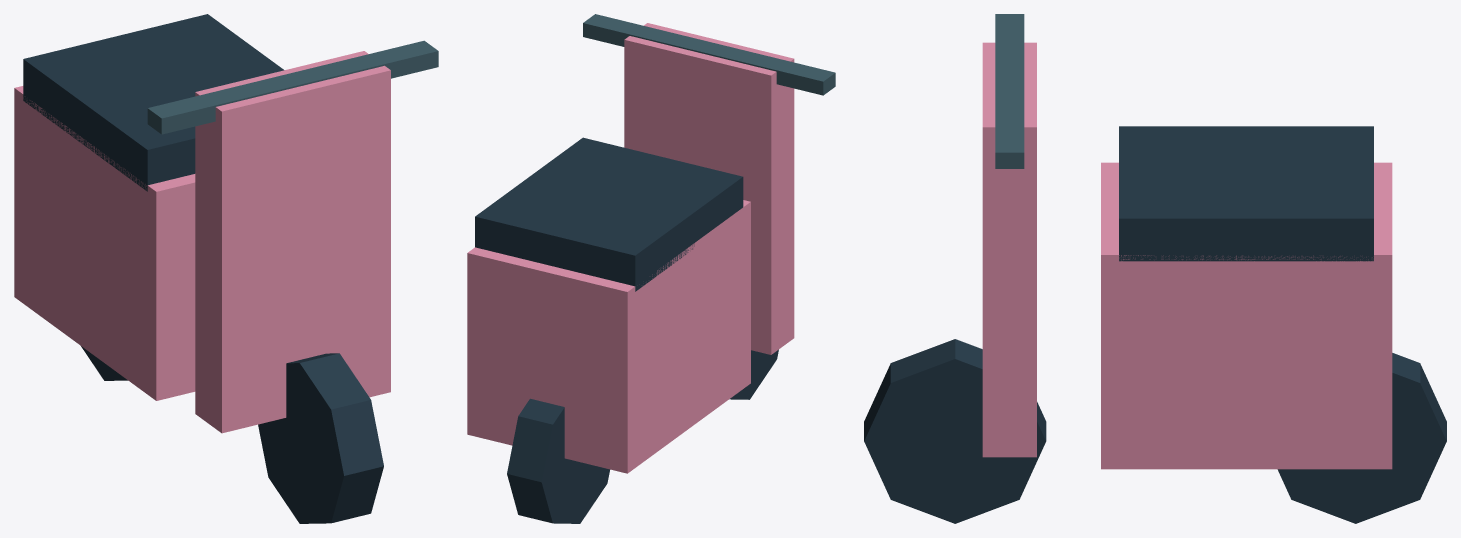
File: scooter.obj
3 views of the same model, side by side, from view 1: azimuth 30°, elevation 25°; view 2: azimuth 150°, elevation 25°; view 3: azimuth 270°, elevation 25° (orthographic). The views are drawn at different scales.
Parts seen in each view (by area): view 1: scooter; view 2: scooter; view 3: scooter.
Part boxes in pixels (<box>): scooter: <box>14,14,438,523</box>; scooter: <box>467,14,835,523</box>; scooter: <box>864,14,1446,523</box>.
Size of the model in its own units: 0.9 by 1.3 by 1.6.
